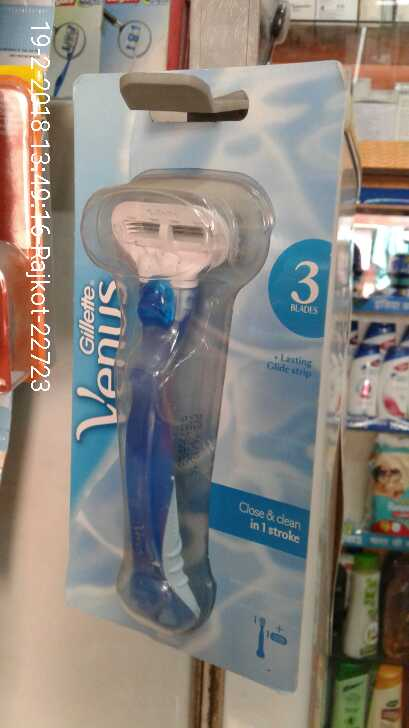venus: (60, 74, 321, 648)
